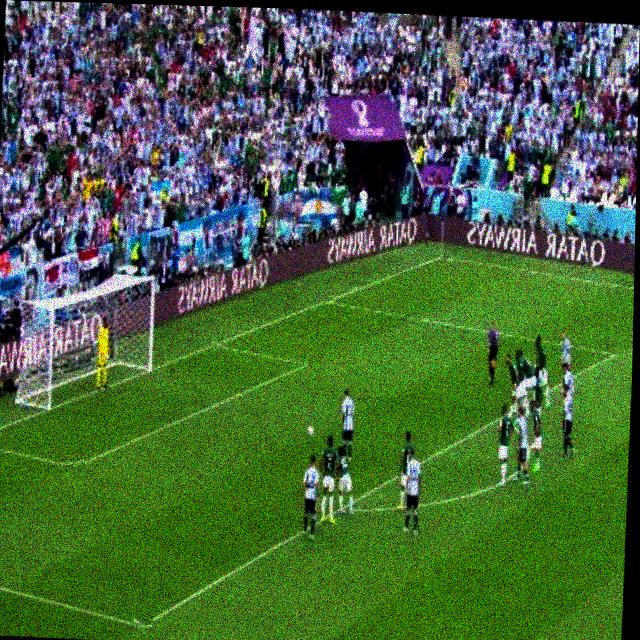bigarea_bottom_inner: (132, 609, 153, 639)
bigarea_top_inner: (608, 346, 621, 364)
bigarea_top_outter: (322, 296, 333, 306)
corner: (437, 252, 448, 260)
smallarea_bottom_inner: (65, 452, 84, 478)
smallarea_top_inner: (301, 356, 312, 372)
smallarea_top_outter: (211, 337, 223, 351)
